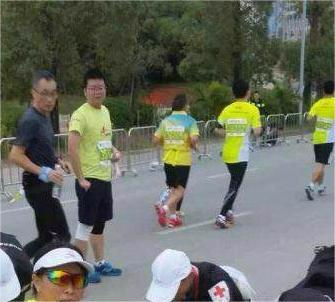up: (66, 67, 125, 286), (11, 64, 67, 257), (210, 74, 263, 235), (151, 94, 200, 233), (302, 78, 335, 207)
